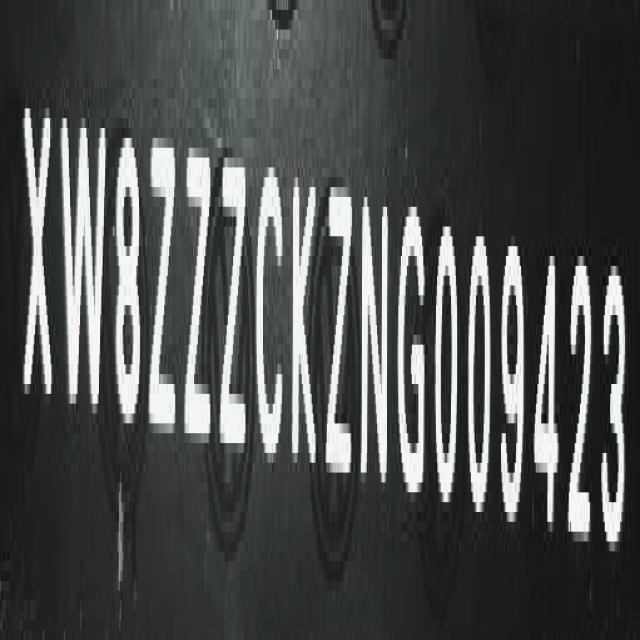0: (465, 217, 491, 530), (433, 207, 459, 516)
2: (568, 244, 594, 554)
3: (600, 255, 627, 560)
4: (533, 232, 561, 542)
8: (116, 119, 144, 444)
9: (501, 229, 528, 537)
C: (256, 154, 286, 469)
G: (397, 192, 427, 507)
K: (292, 168, 317, 478)
N: (361, 172, 393, 500)
W: (60, 90, 106, 434)
X: (21, 80, 54, 428)
Z: (149, 127, 178, 453), (218, 150, 247, 470), (325, 167, 353, 497), (186, 130, 213, 462)
